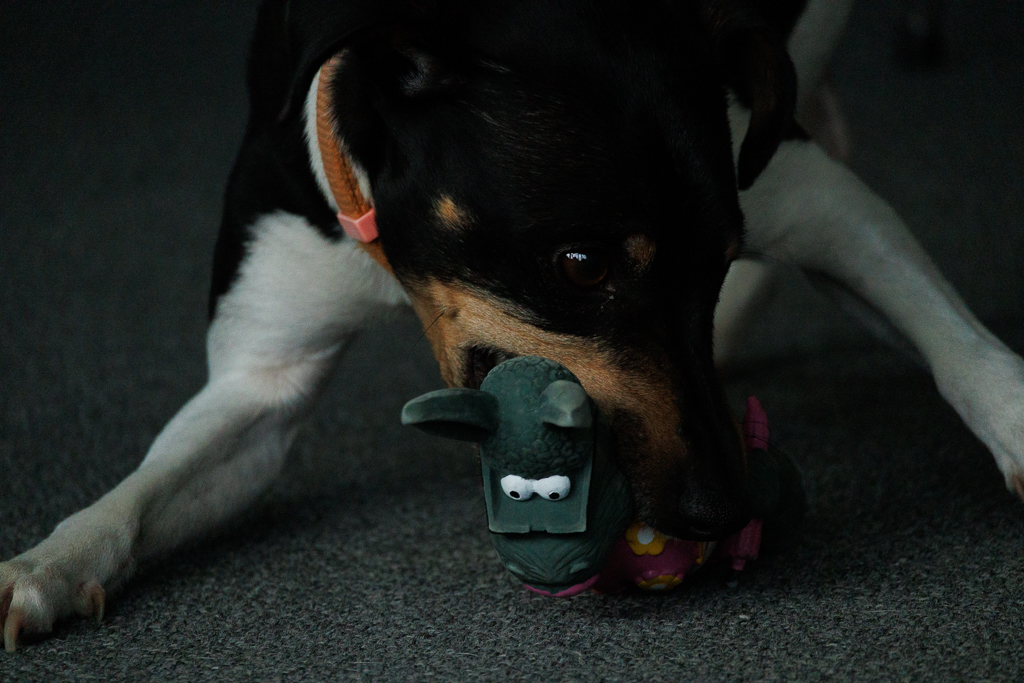Dog: (0, 0, 1024, 683)
Humanoid: (367, 316, 825, 619)
